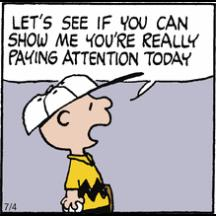charlie: (22, 74, 114, 212)
